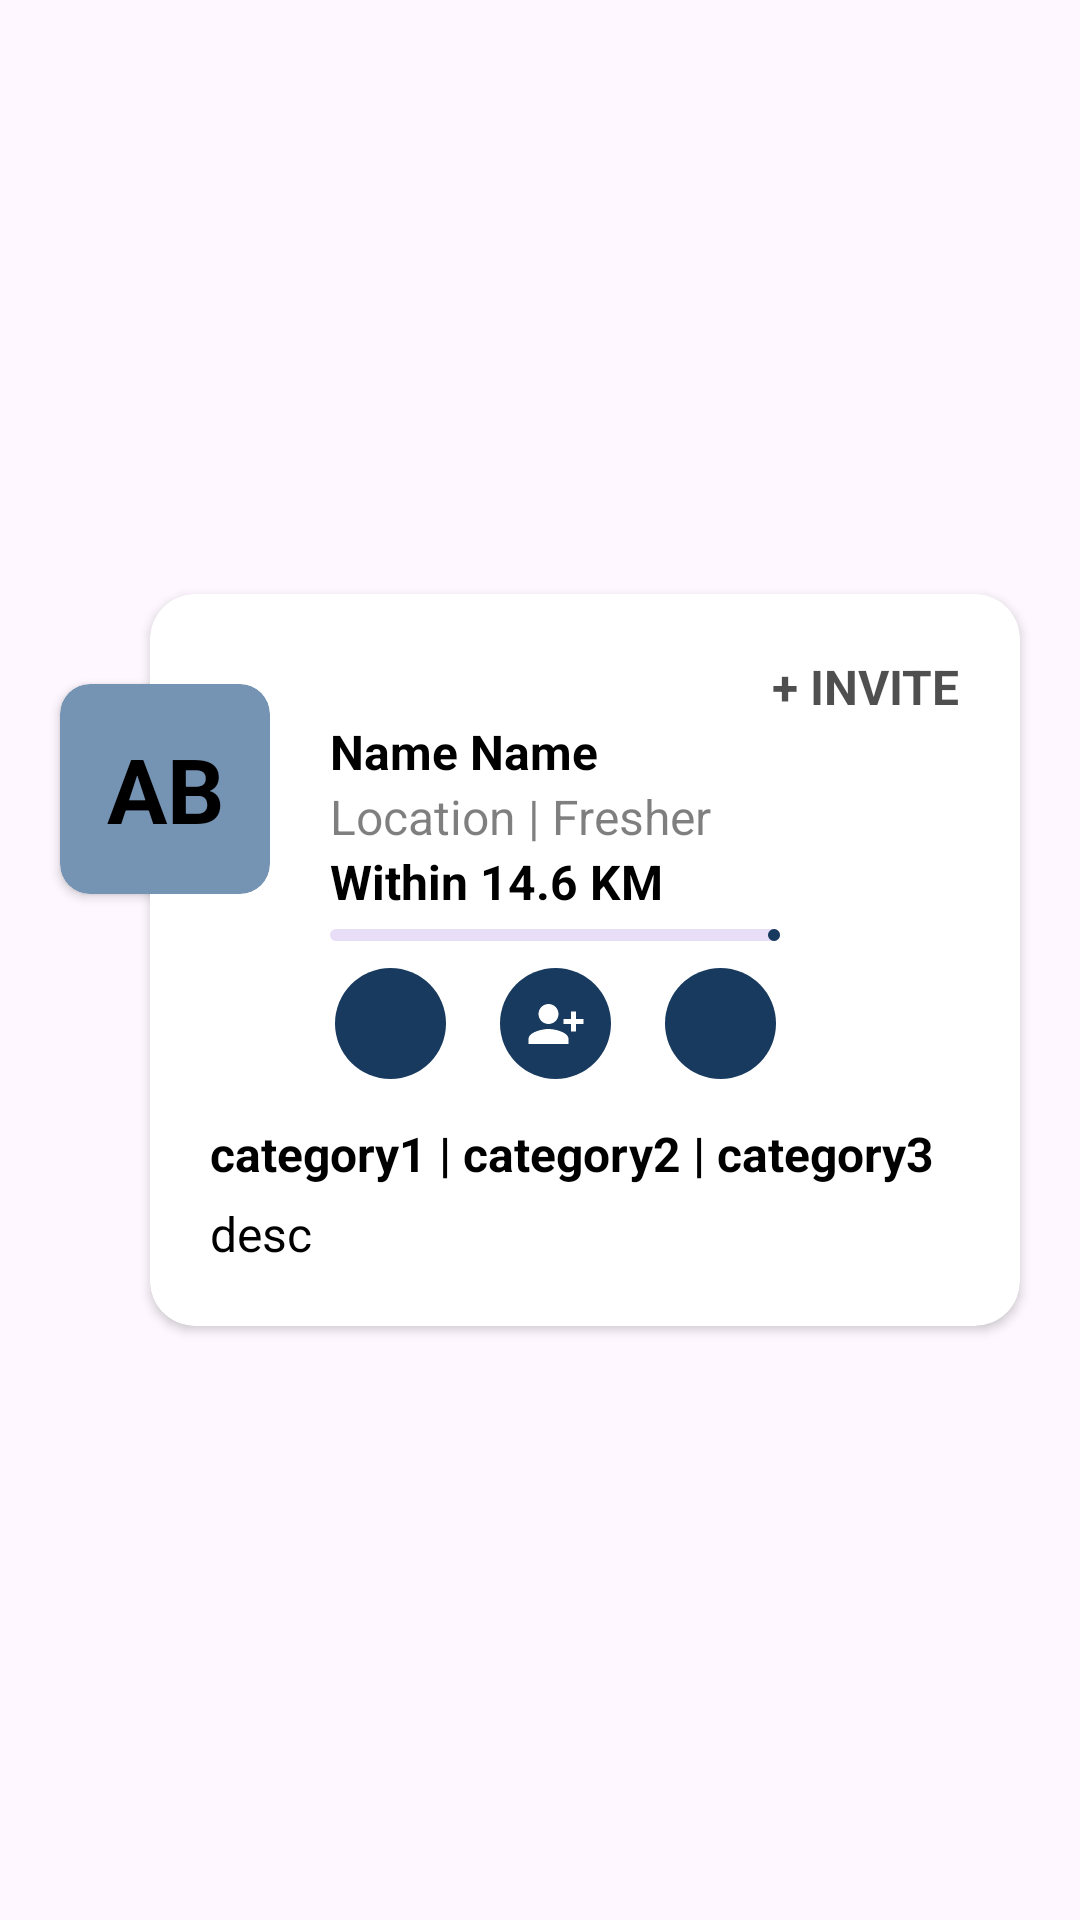

Where icons sit on this 1080w x 1920h app screen, as (x1, y1, x2, y2):
person add: (500, 968, 611, 1079)
